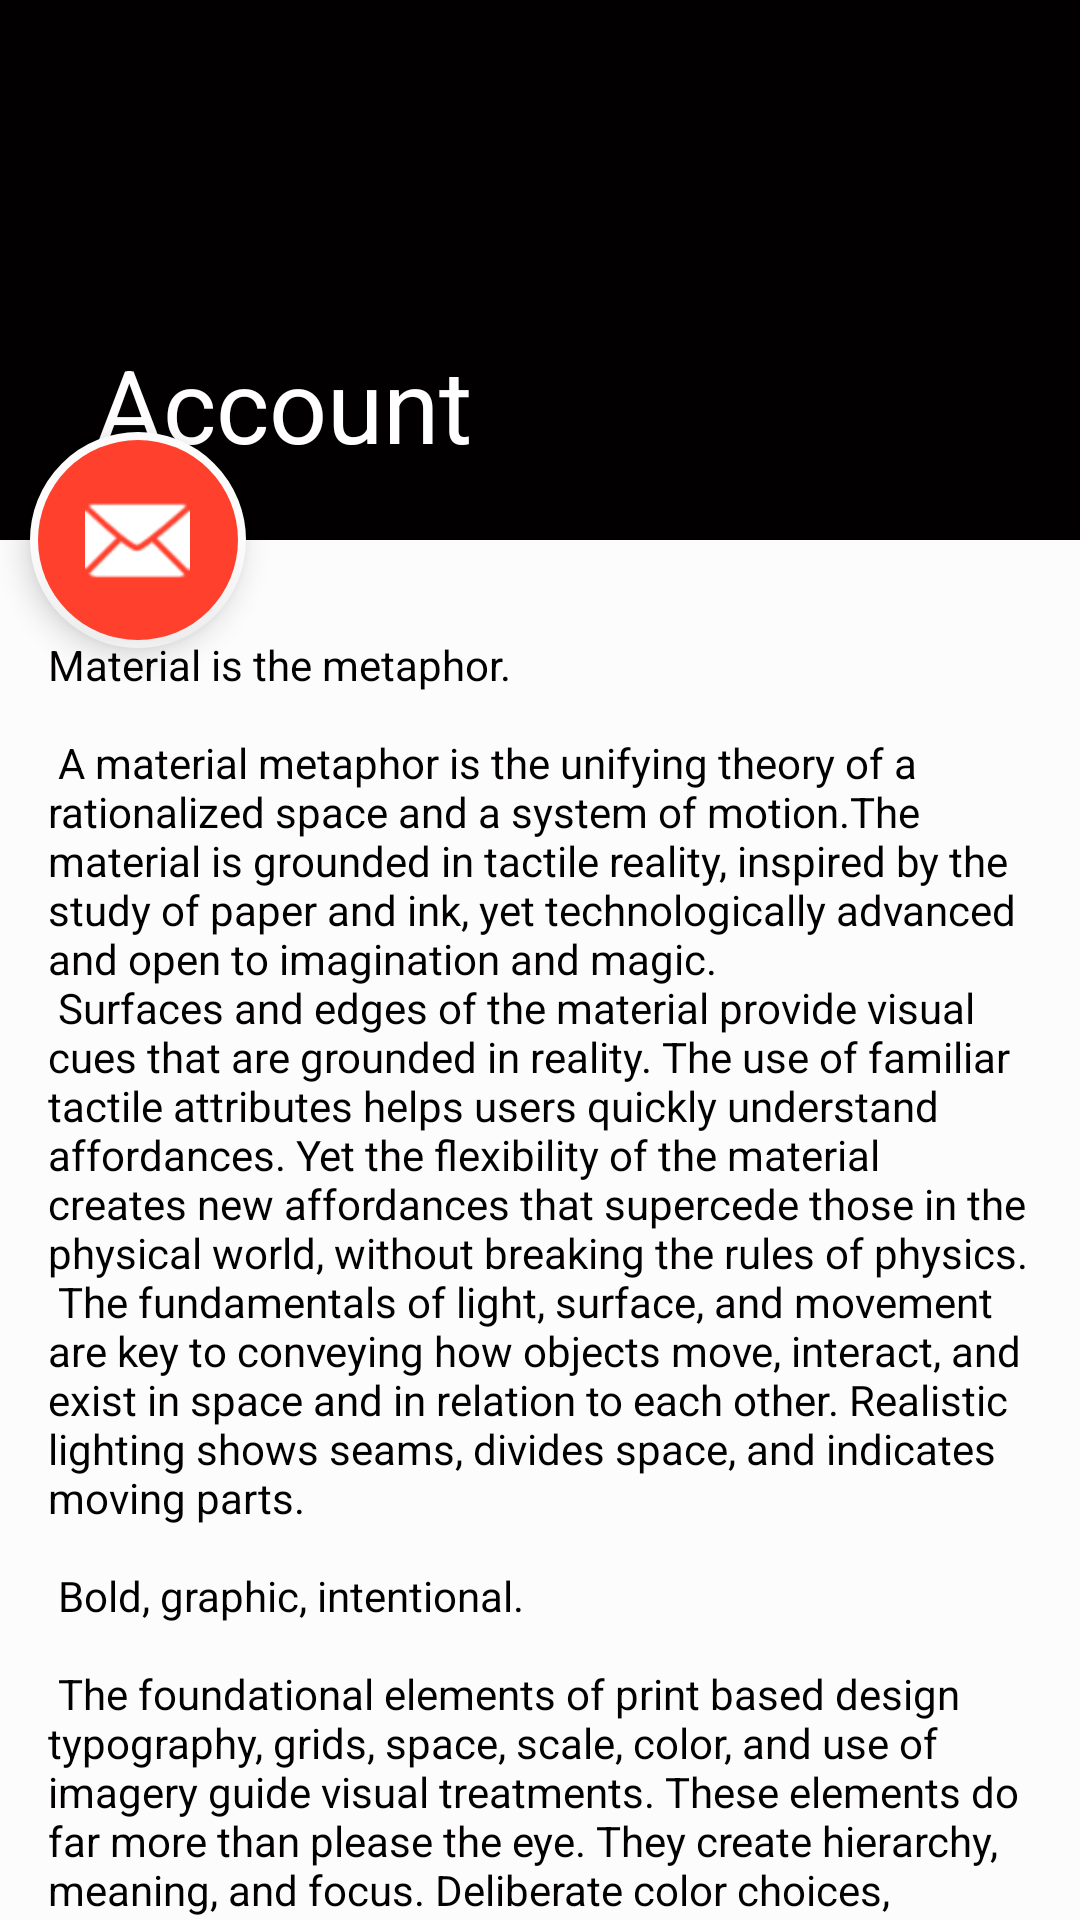

Icon click points for this 1080px×1920px phone screenshot, format (x=x, y=y):
email: (x=138, y=540)
